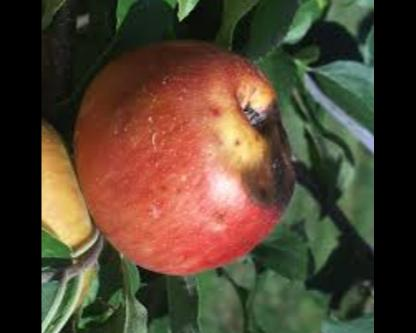defect: (202, 96, 342, 225)
